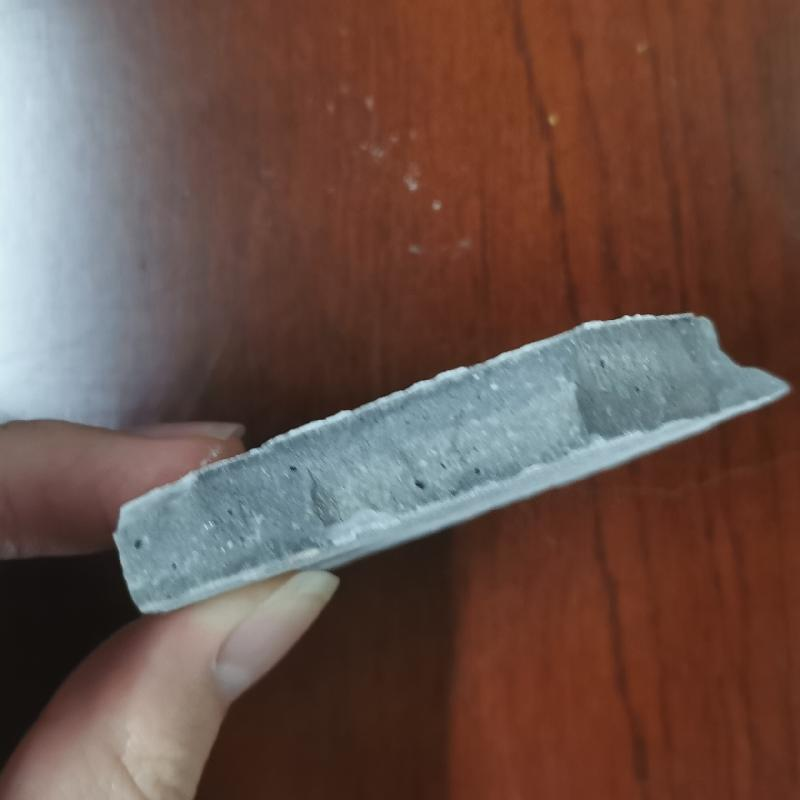tile: (85, 305, 792, 616)
